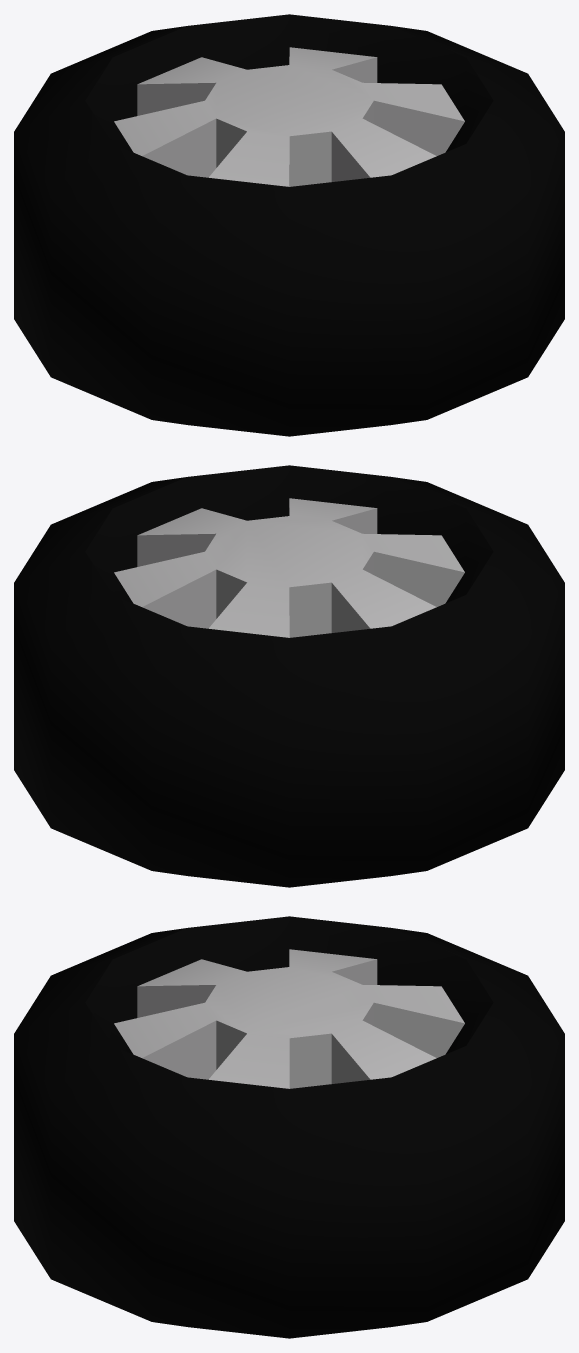
The model's file is tire.obj.
3 renders of one model, top to bottom at view 1: azimuth 30°, elevation 25°; view 2: azimuth 150°, elevation 25°; view 3: azimuth 270°, elevation 25°, orthographic.
Parts seen in each view (by area): view 1: Tire1; view 2: Tire1; view 3: Tire1.
Boxes of the visible parts, x1=… form: Tire1: x1=14, y1=14, x2=564, y2=436; Tire1: x1=14, y1=465, x2=564, y2=887; Tire1: x1=14, y1=916, x2=564, y2=1338.
Bounding box in the file's own units: 4 × 2 × 4.
1 material, 1 textured.
